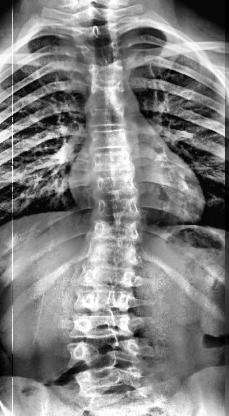Vertebrae: (70, 364, 148, 398), (65, 338, 146, 370), (72, 282, 138, 314), (68, 308, 138, 338), (82, 236, 146, 268), (72, 34, 132, 66), (75, 260, 139, 290), (82, 82, 138, 114), (83, 217, 146, 245), (84, 60, 138, 92), (84, 124, 138, 154), (88, 147, 136, 177), (89, 172, 140, 200), (91, 194, 141, 222), (88, 103, 130, 129)
